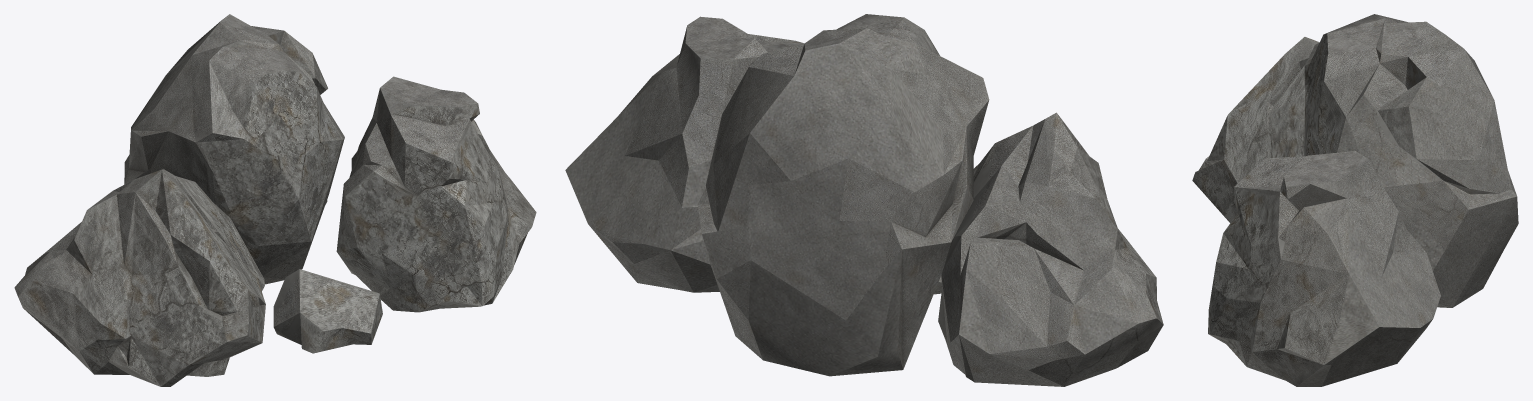
File: rock2.glb
The picture shows the model from 3 angles, left to right: view 1: azimuth 30°, elevation 25°; view 2: azimuth 150°, elevation 25°; view 3: azimuth 270°, elevation 25°; orthographic projection. The views are drawn at different scales.
Bounding box in the file's own units: 1.9 × 0.9525 × 1.09.
1 material, 1 textured.
